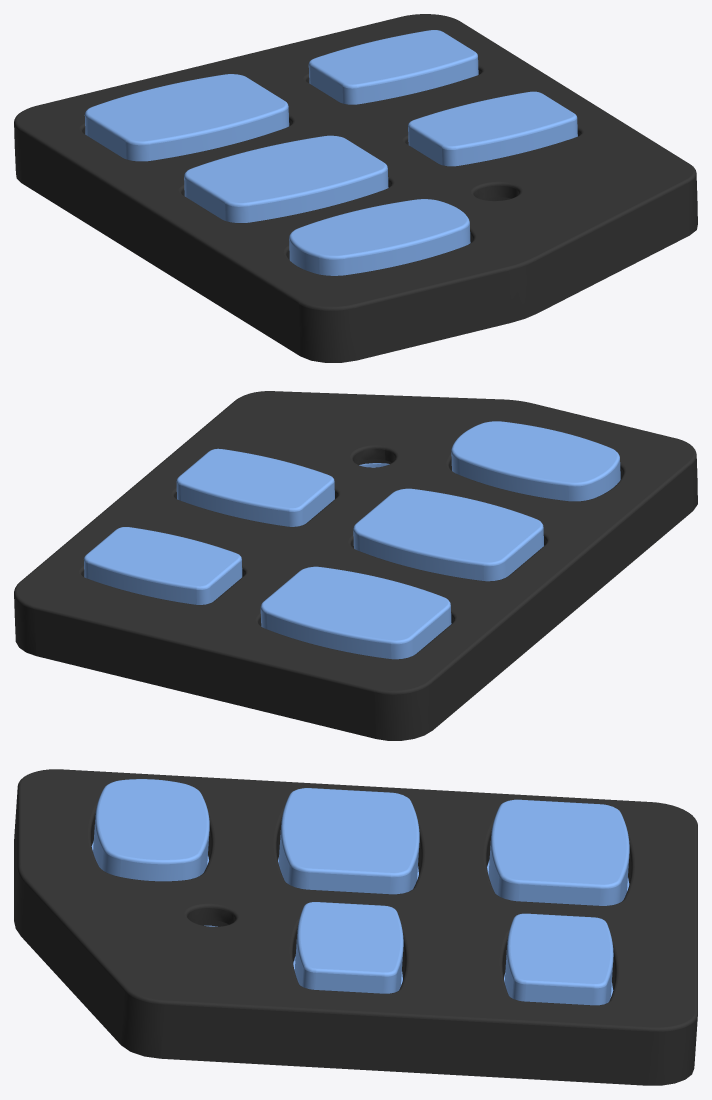
The model's file is animation.fbx.
The picture shows the model from 3 angles, top to bottom: view 1: azimuth 30°, elevation 25°; view 2: azimuth 150°, elevation 25°; view 3: azimuth 270°, elevation 25°; orthographic projection. The views are drawn at different scales.
Parts seen in each view (by area): view 1: AB, AJ; view 2: AB, AJ; view 3: AB, AJ.
Part boxes in pixels (x1,y1,x2,y2): AB: (14,14,697,362); AJ: (84,30,577,275); AB: (14,391,697,740); AJ: (84,421,620,659); AB: (14,769,697,1085); AJ: (91,779,629,1005).
Bounding box in the file's own units: 3.33 × 0.7361 × 4.23.
